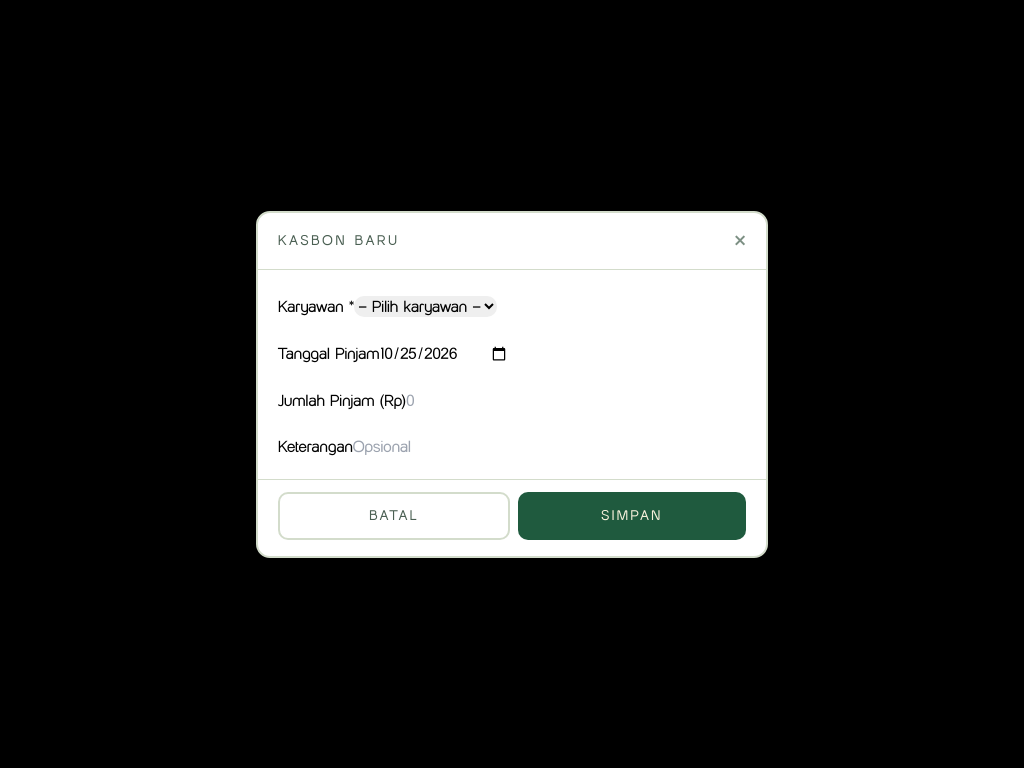
Test: KasbonForm — field interactions › shows accumulation warning when karyawan already has belum kasbon
Select "BUDI" in the dropdown at (426, 306), box [354,296,498,316]
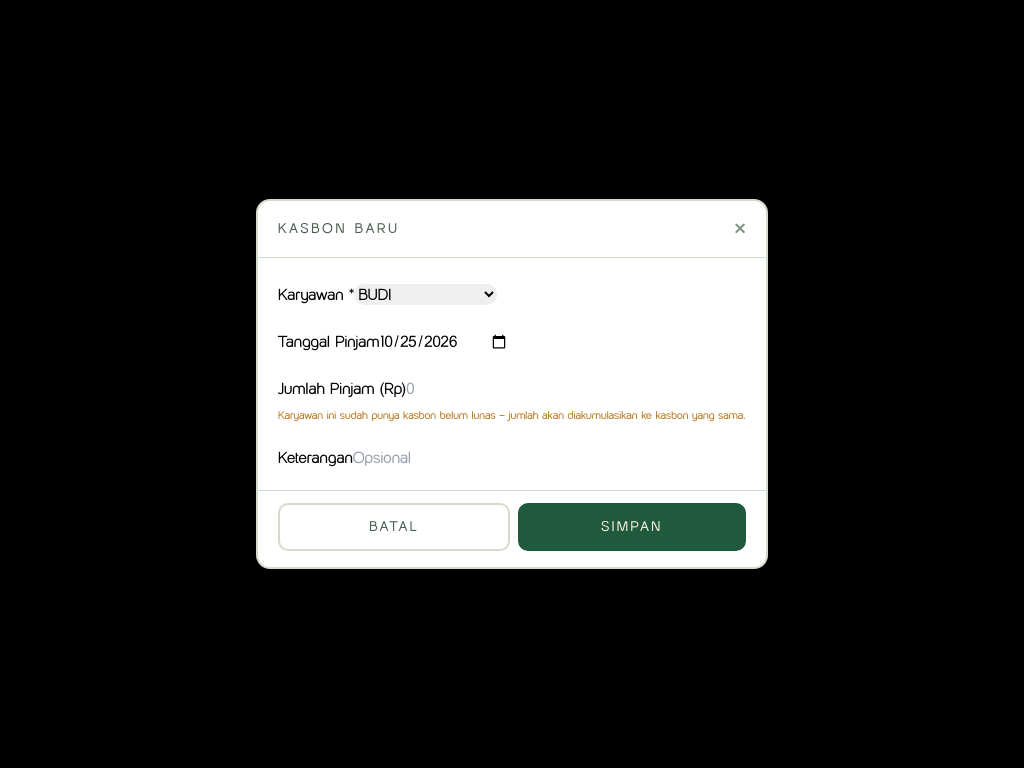
Expected: the text "diakumulasikan" is shown, [278,408,745,422]
